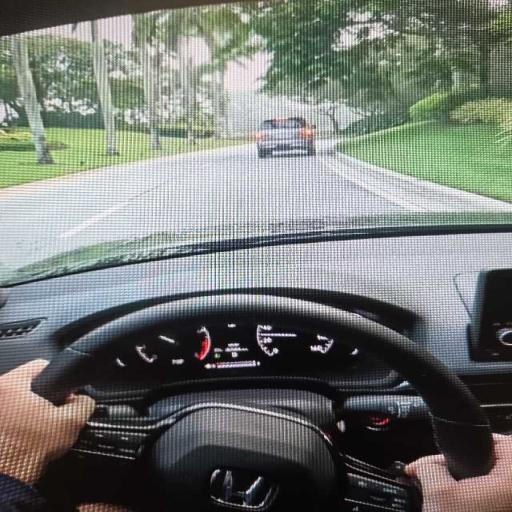car: (0, 0, 511, 511), (254, 118, 315, 157)
lane: (0, 142, 510, 267)
person: (0, 361, 94, 511)
